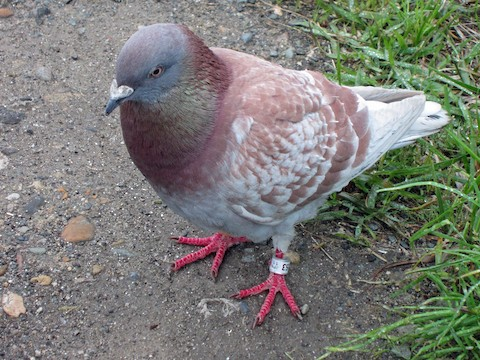pigeon: (101, 15, 453, 327)
